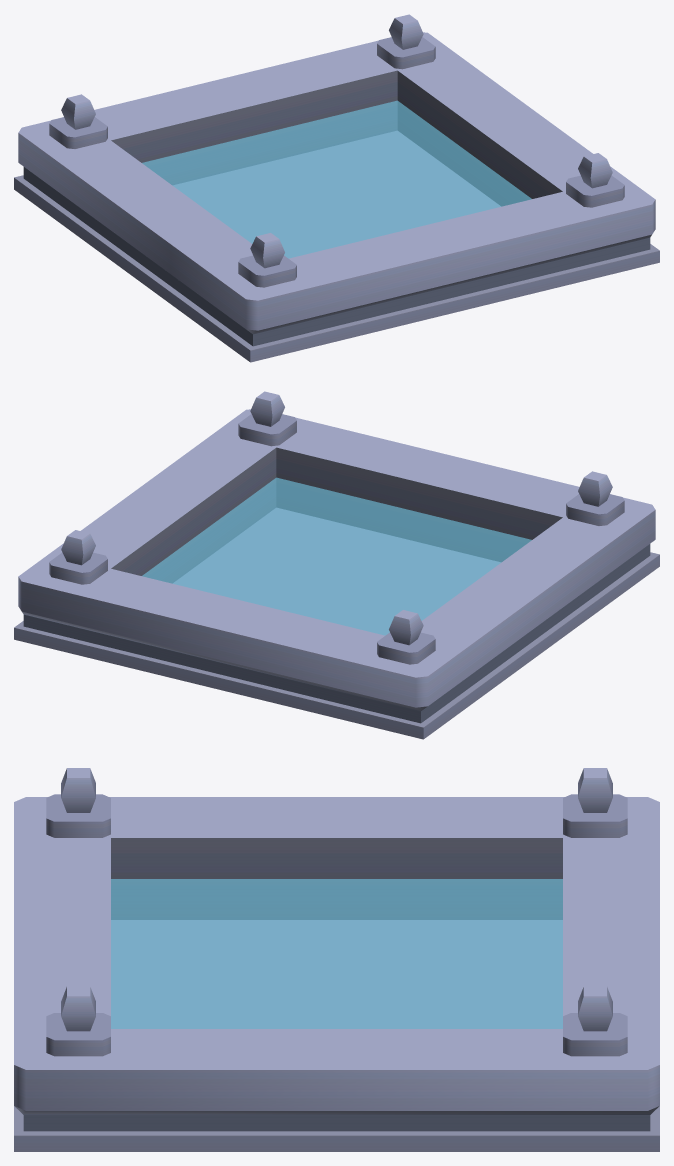
The model's file is fountain-square.glb.
3 renders of one model, top to bottom at view 1: azimuth 30°, elevation 25°; view 2: azimuth 150°, elevation 25°; view 3: azimuth 270°, elevation 25°, orthographic. The views are drawn at different scales.
Visible parts, largest first — view 1: fountain-square, (_ignore); view 2: fountain-square, (_ignore); view 3: fountain-square, (_ignore).
Boxes of the visible parts, x1=… form: fountain-square: x1=14, y1=14, x2=659, y2=362; (_ignore): x1=142, y1=100, x2=531, y2=258; fountain-square: x1=14, y1=391, x2=659, y2=739; (_ignore): x1=142, y1=477, x2=531, y2=635; fountain-square: x1=14, y1=768, x2=659, y2=1151; (_ignore): x1=111, y1=879, x2=562, y2=1028.
Size of the model in its own units: 2 by 0.4552 by 2.
Materials: 2 (1 with a texture image).
